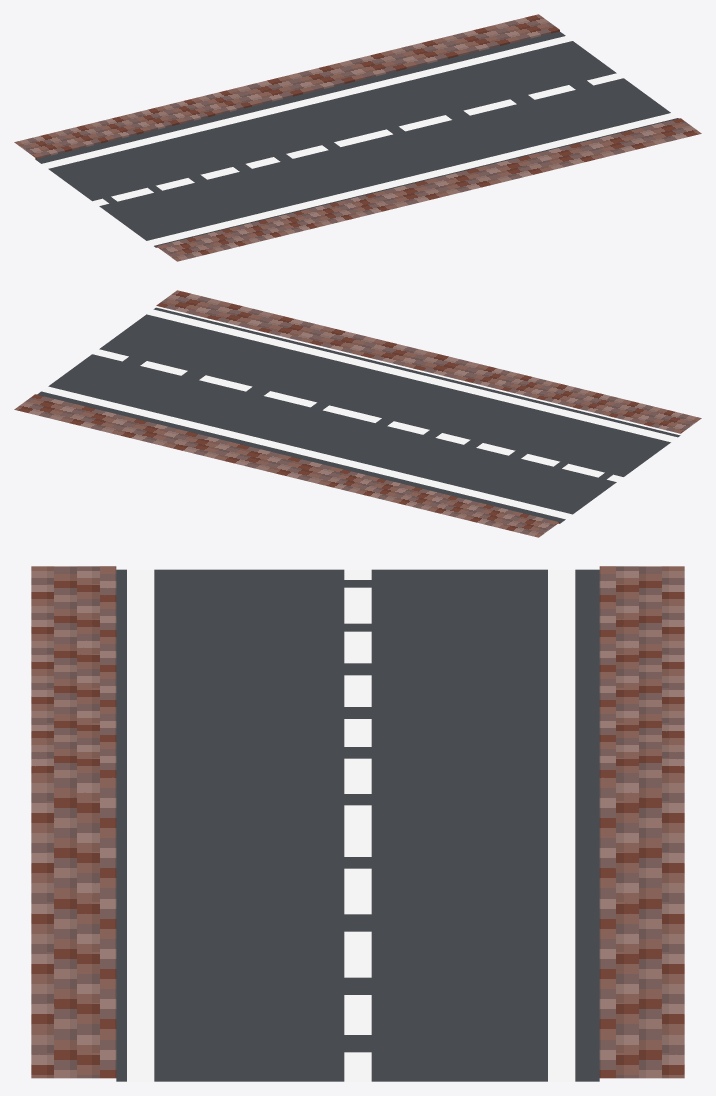
Rendered from road.glb.
3 renders of one model, top to bottom at view 1: azimuth 30°, elevation 25°; view 2: azimuth 150°, elevation 25°; view 3: azimuth 270°, elevation 25°, orthographic. The views are drawn at different scales.
Visible parts, largest first — view 1: Road_small.001; view 2: Road_small.001; view 3: Road_small.001.
Part boxes in pixels (<box>): Road_small.001: <box>14,14,701,261</box>; Road_small.001: <box>14,290,701,537</box>; Road_small.001: <box>31,566,684,1081</box>.
Size of the model in its own units: 33.94 by 0.105 by 18.29.
Materials: 2 (2 with a texture image).
